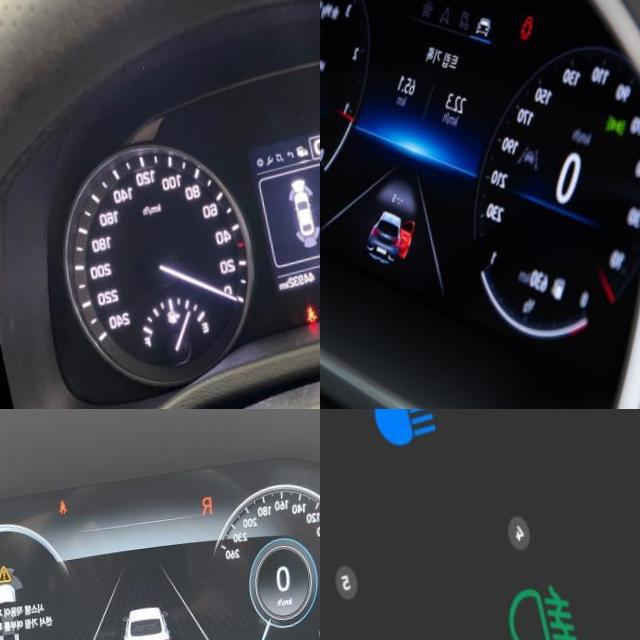Central Warning lamp: (0, 568, 7, 588)
Doors: (515, 23, 535, 54)
FrontFogLight: (495, 587, 574, 640)
